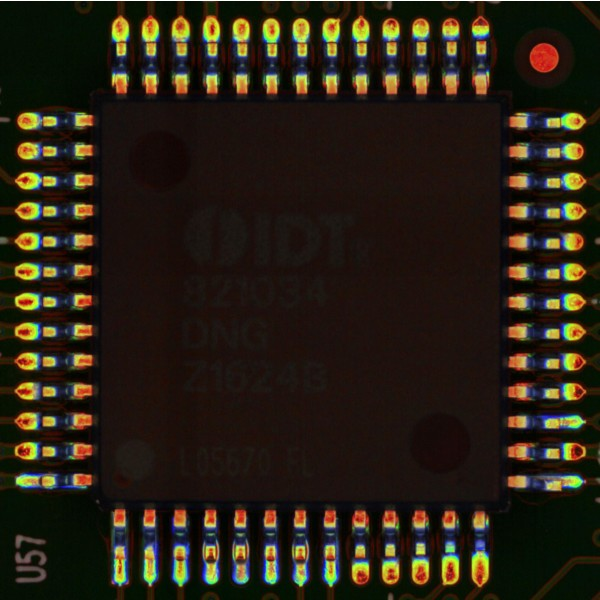Bad_podu: (175, 551, 185, 572), (114, 552, 125, 570), (549, 420, 572, 427), (267, 551, 276, 568), (33, 477, 47, 487), (557, 478, 571, 486), (326, 556, 335, 566)
Bad_qiaojiao: (305, 538, 310, 561), (202, 541, 207, 561), (291, 541, 296, 561), (216, 538, 220, 560), (232, 539, 236, 561), (246, 538, 249, 560)
